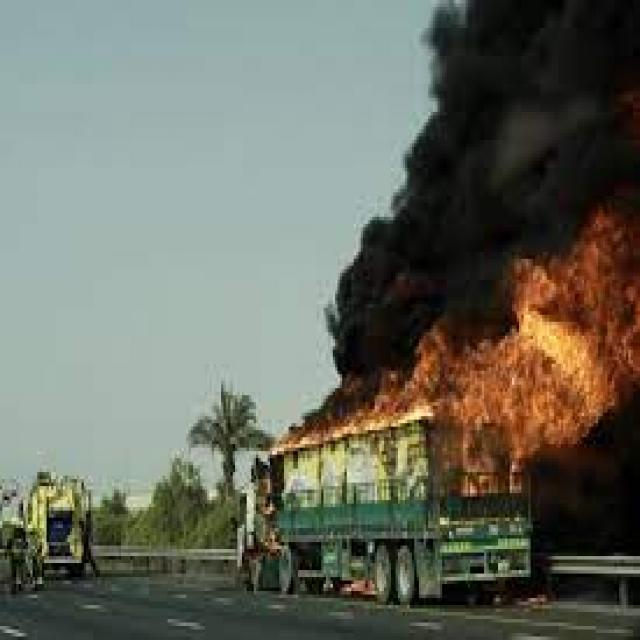fire: (286, 213, 640, 504)
smoke: (321, 3, 510, 370), (386, 3, 640, 214)
